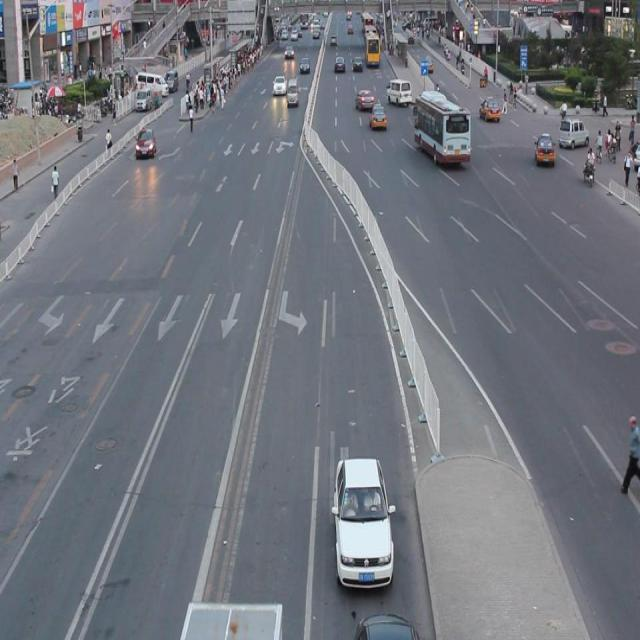bus: (178, 599, 284, 640)
car: (333, 456, 393, 588), (353, 610, 420, 640)
